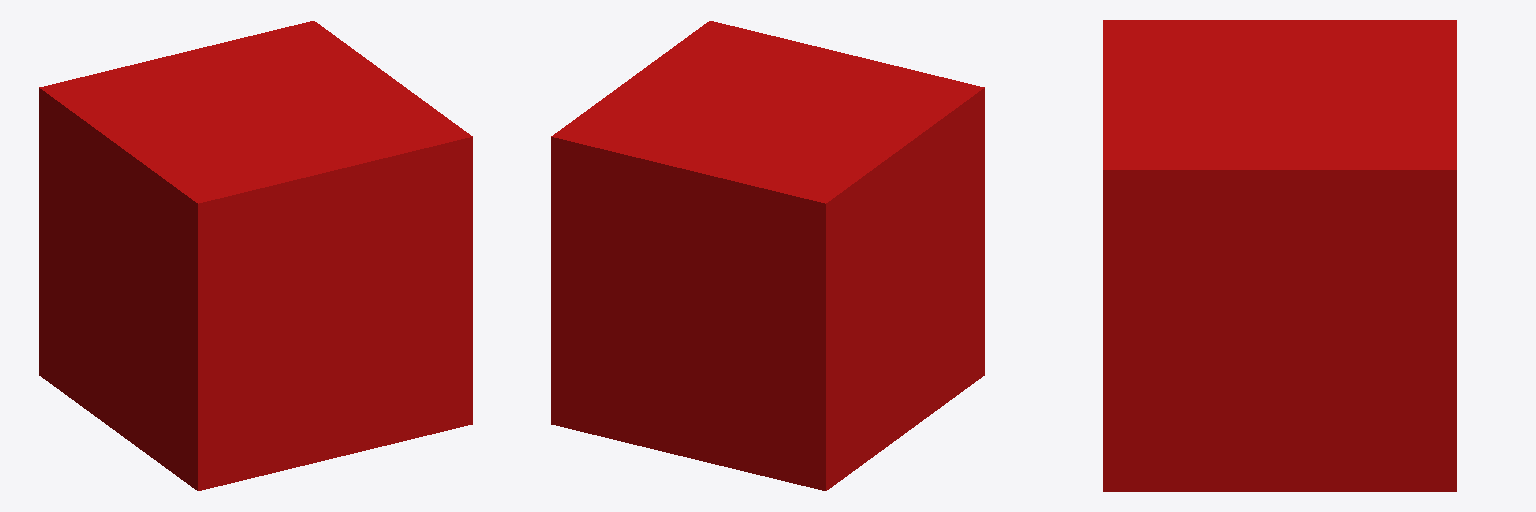
robot.urdf — simple_cuboid:
<?xml version="1.0"?>
<robot name="simple_cuboid">
  <link name="base_link">
    <inertial>
      <origin xyz="0 0 0" rpy="0 0 0" />
      <mass value="0.1" />
      <inertia ixx="0.000167" ixy="0" ixz="0" iyy="0.000167" iyz="0"
          izz="0.000167" />
    </inertial>
    <visual>
      <origin xyz="0 0 0" rpy="0 0 0" />
      <geometry>
        <box size="0.1 0.1 0.1" />
      </geometry>
      <material name="red">
        <color rgba="0.8 0.1 0.1 1" />
      </material>
    </visual>

    <!--
      This places contact spheres on the corners of the visual box and a
      *slightly* smaller inset contact box (centered on the visual origin). This
      accounts for issues in the contact computation providing stable table
      contact *and* supports grasping.
      When the box is in stable contact with the ground plane, the corner
      spheres will provide fixed contact points (simulating distributed contact
      points around the face).  However, for arbitrary grip configuration, the
      slightly inset box will provide contact with a *slight* offset (in this
      case a deviation of 0.0005 m from the visual surface).
      https://github.com/RobotLocomotion/drake/issues/6254 tracks the
      difficulty in supporting face-to-face contact.
     -->
    <collision>
      <geometry>
        <box size="0.1 0.1 0.1" />
      </geometry>
    </collision>

   </link>
</robot>

--- Render facts (derived) ---
3 views of the same robot in one strip: view 1: azimuth 30°, elevation 25°; view 2: azimuth 150°, elevation 25°; view 3: azimuth 270°, elevation 25° (orthographic).
Robot: simple_cuboid — 1 links, 0 joints (none); root link base_link; default pose: every joint at zero.
Links seen in each view (by area): view 1: base_link; view 2: base_link; view 3: base_link.
Link boxes in pixels (x1,y1,x2,y2): base_link: [39, 21, 472, 490]; base_link: [551, 21, 984, 490]; base_link: [1103, 20, 1456, 491].
Size in the robot's own frame: 0.1 by 0.1 by 0.1 metres.
Geometry: primitives only (box / cylinder / sphere), no mesh files.